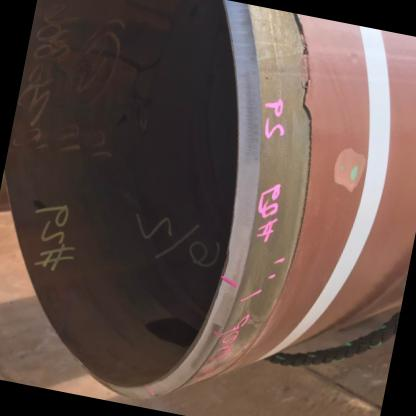Bevel: (207, 319, 223, 334)
